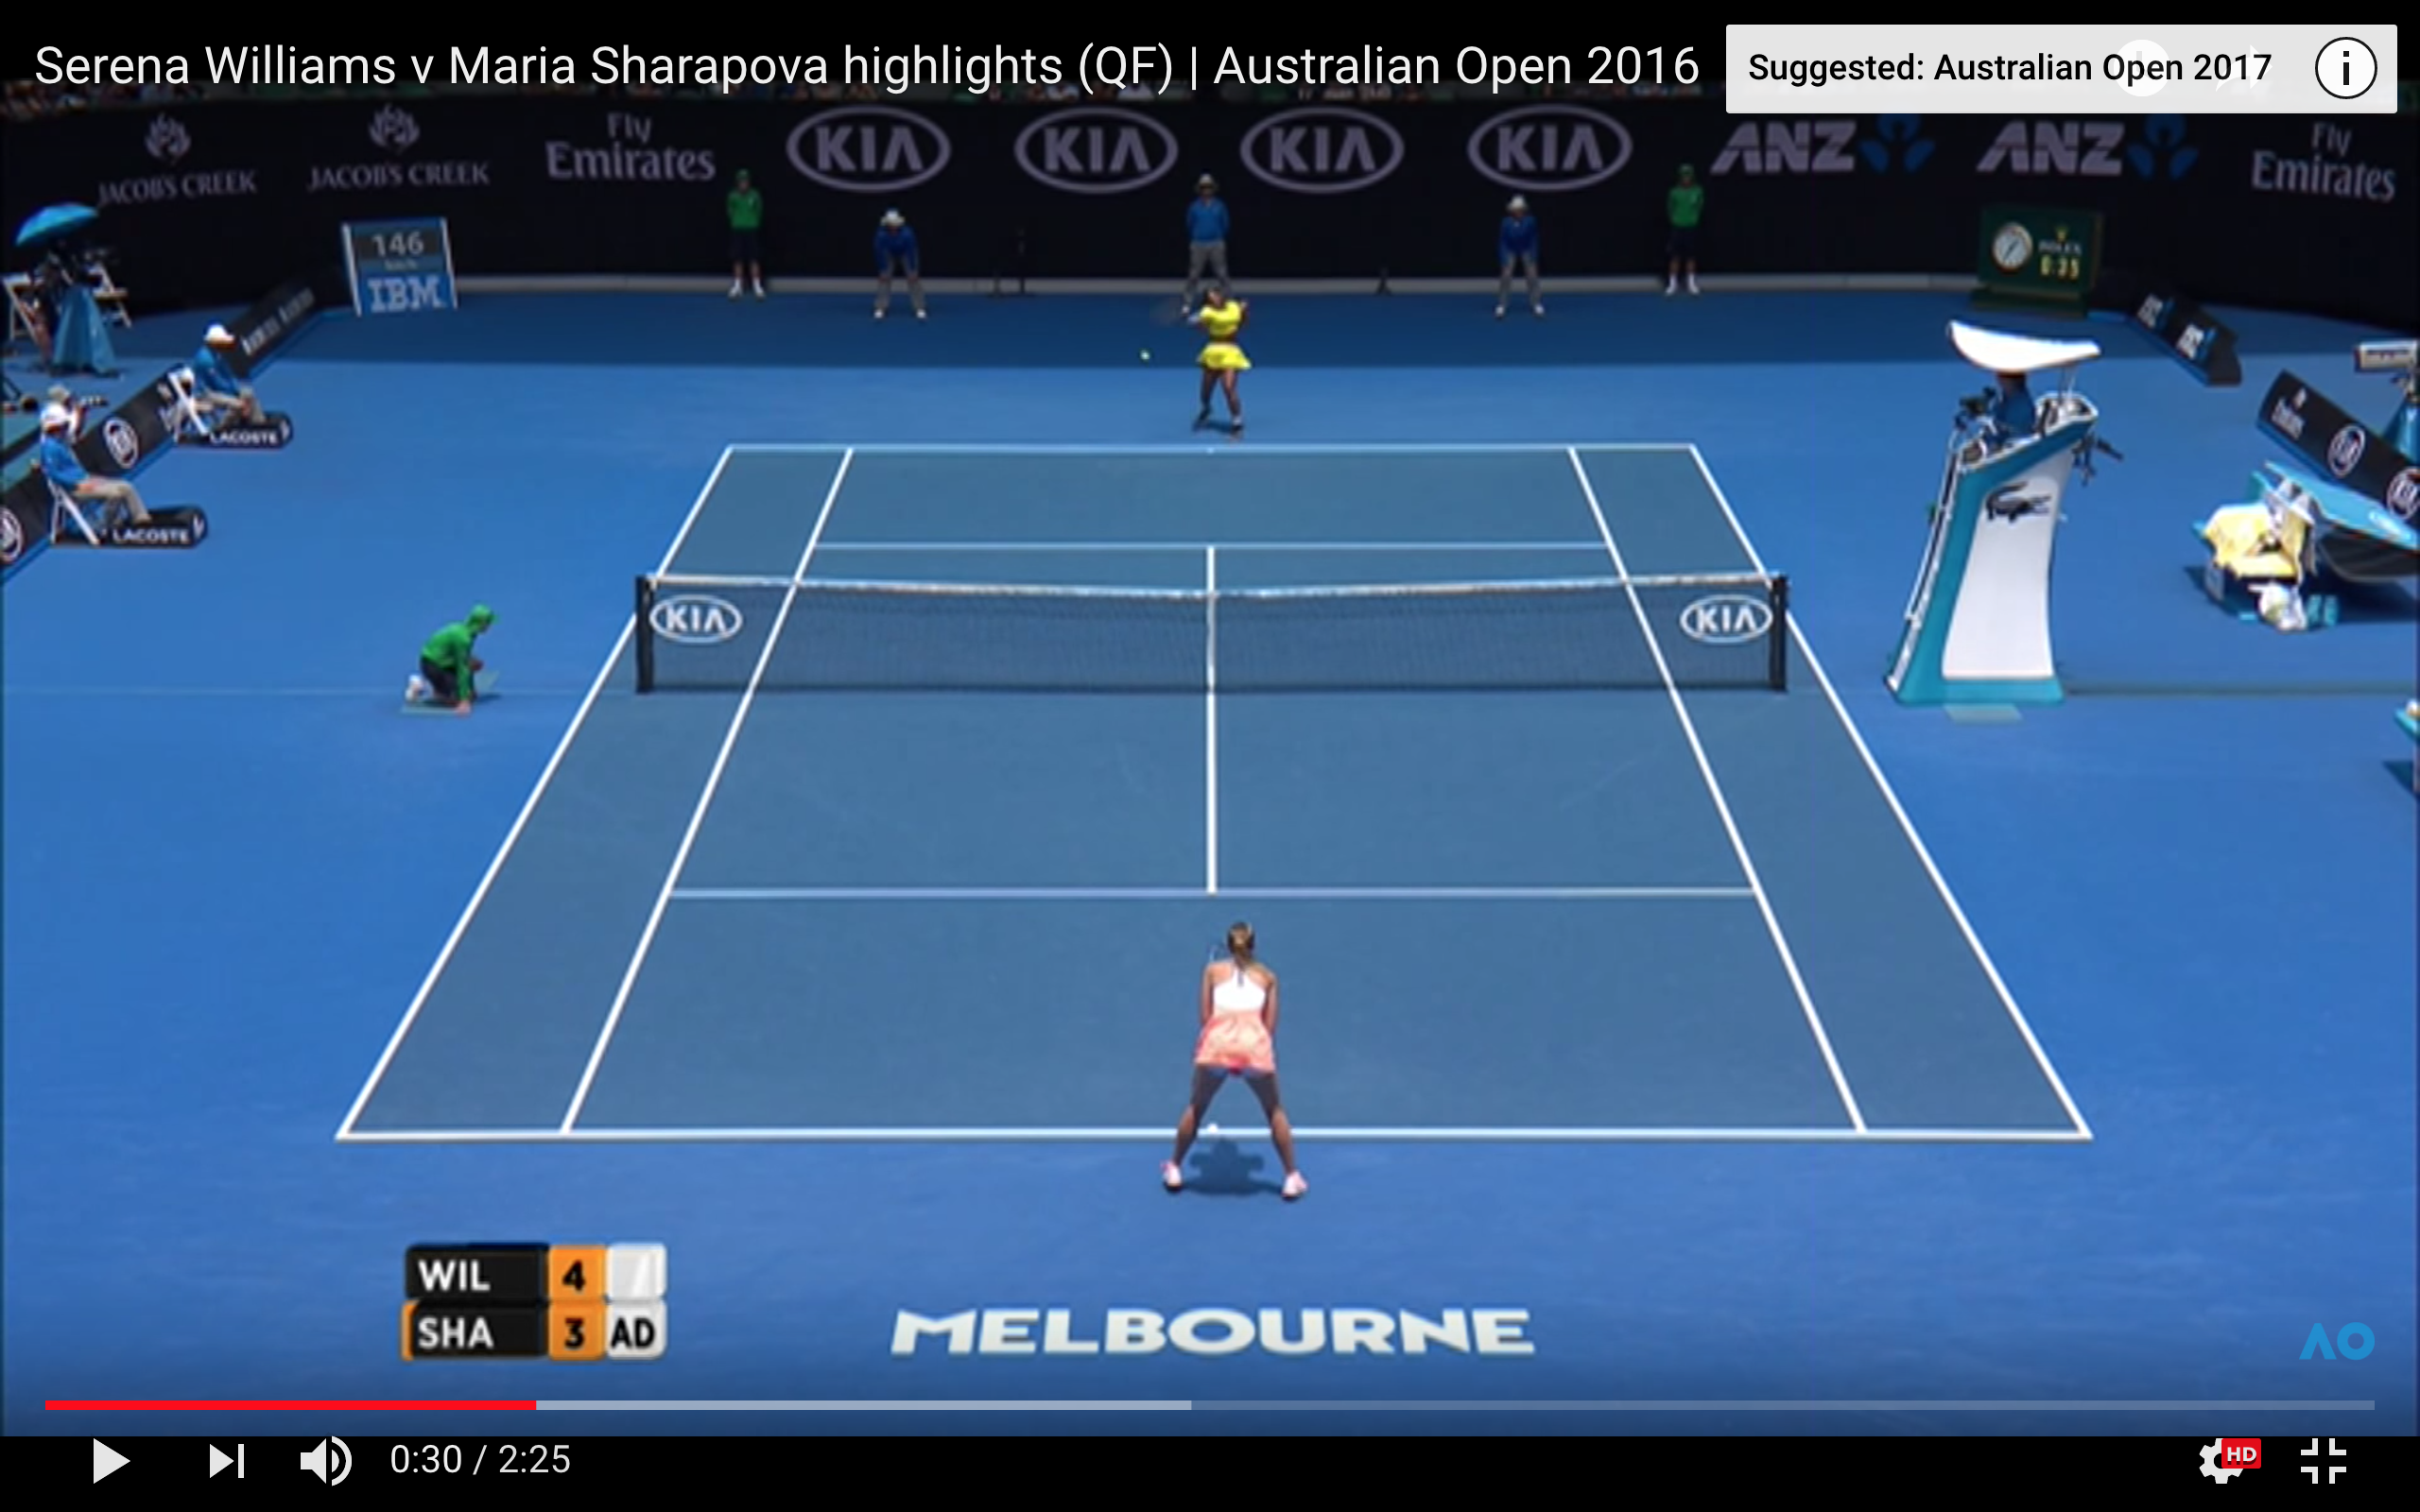tennis ball: (1135, 346, 1157, 367)
tennis player: (1160, 913, 1312, 1211), (1172, 277, 1272, 439)
